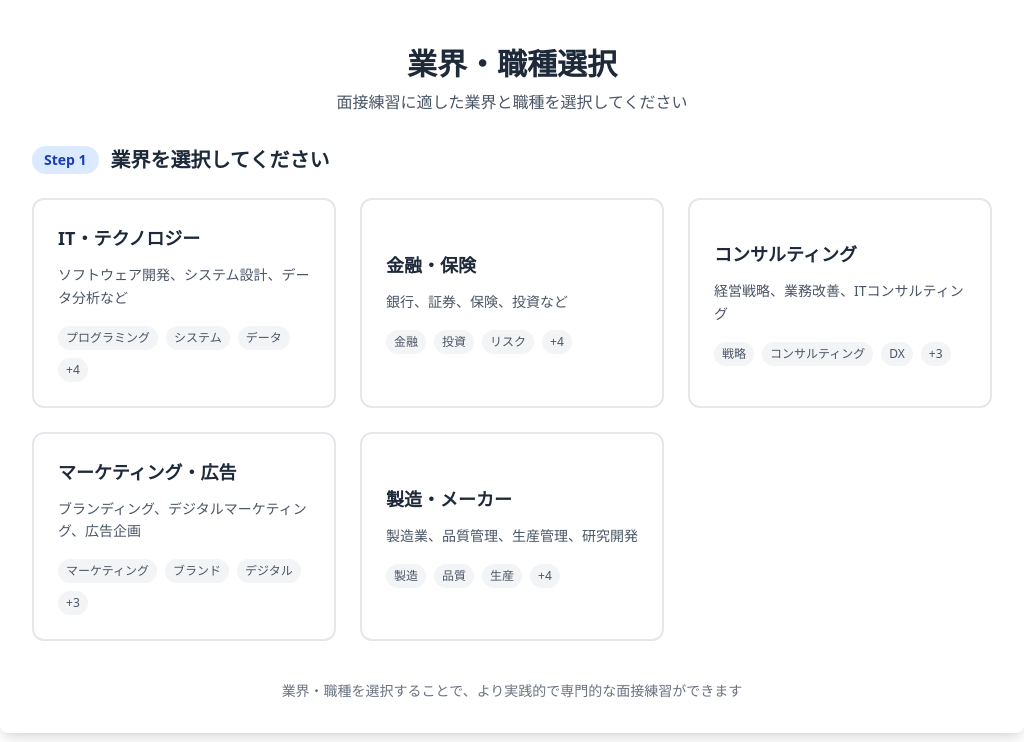
Test: IndustryJobSelector › 職種選択が正常に動作する
The width and height of the screenshot is (1024, 742).
Note:  IT業界を選択
Click the heading "IT・テクノロジー" at (129, 238), box [58,224,200,252]
(page scrolled)
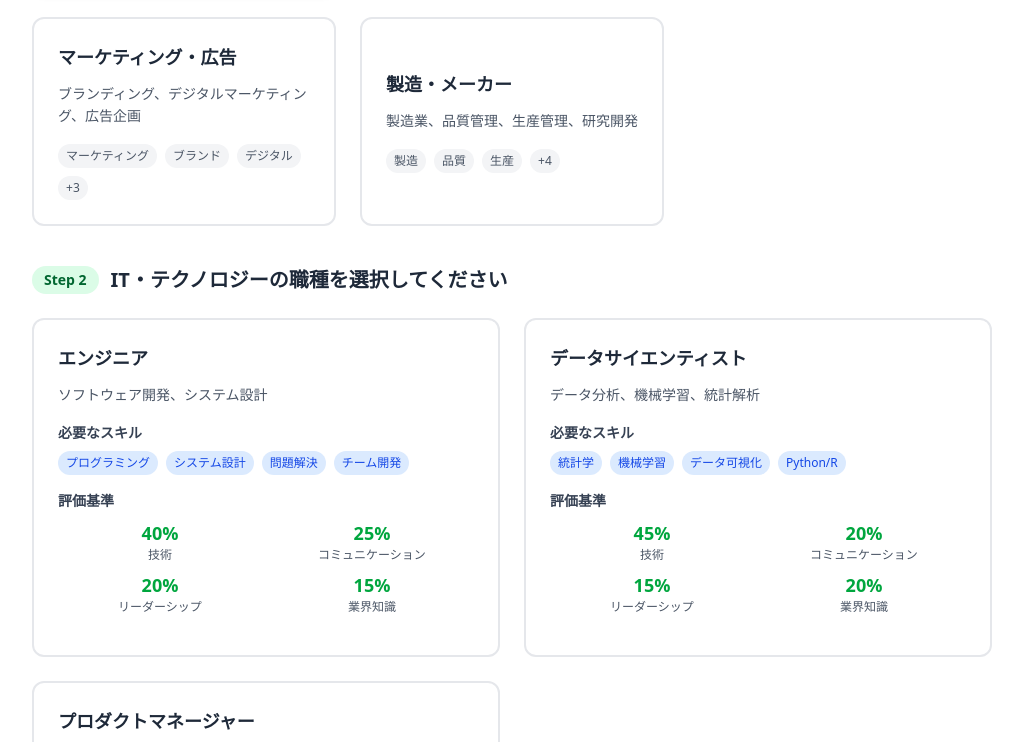
Note: エンジニア職種を選択
Click the heading "エンジニア" at (103, 358), box [58,344,148,372]
(page scrolled)
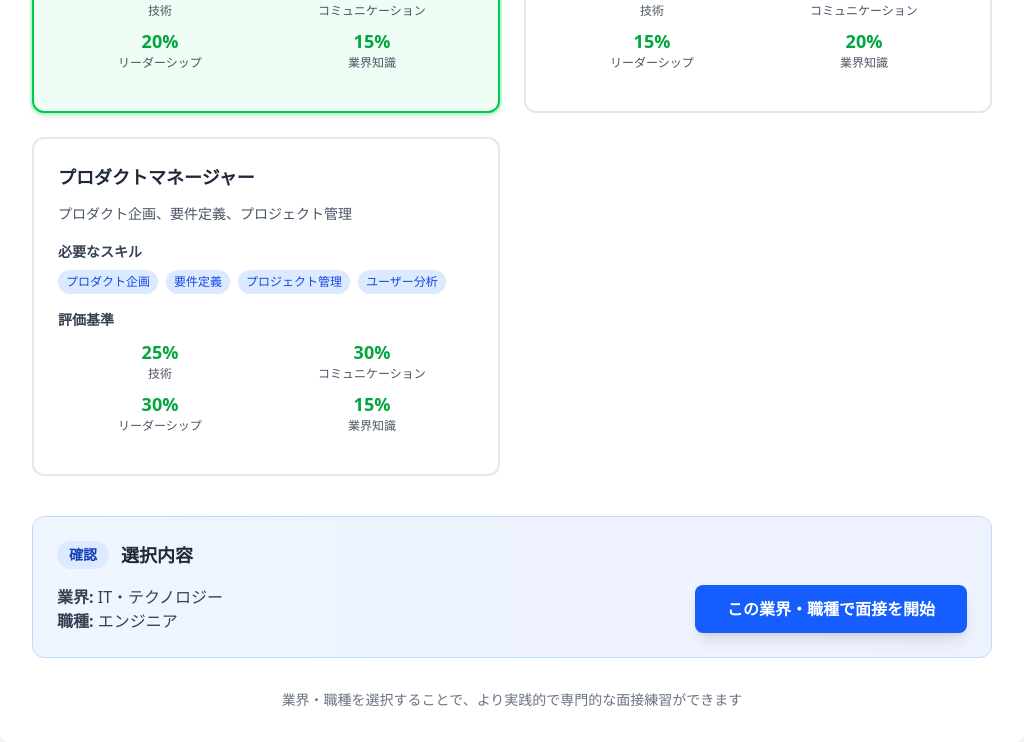
Expected: the button "この業界・職種で面接を開始" is shown, [695,584,967,632]
